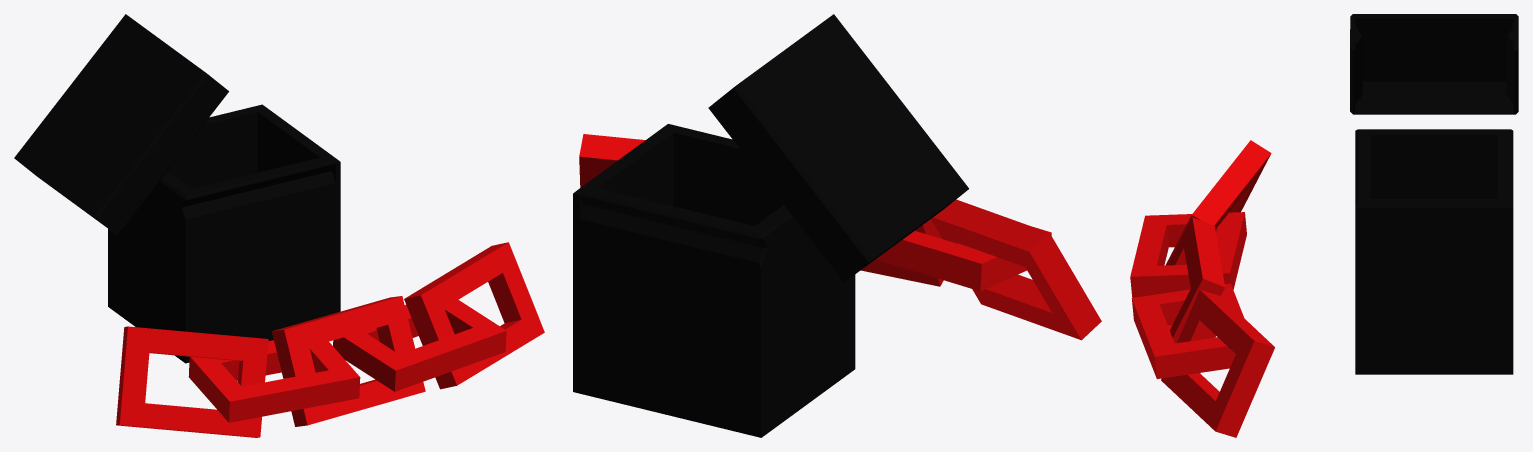
The model's file is Chain-in-box-NR.gltf.
3 renders of one model, left to right at view 1: azimuth 30°, elevation 25°; view 2: azimuth 150°, elevation 25°; view 3: azimuth 270°, elevation 25°, orthographic. The views are drawn at different scales.
Visible parts, largest first — view 1: chain-box-parte1, chain-box-parte2; view 2: chain-box-parte1, chain-box-parte2; view 3: chain-box-parte1, chain-box-parte2.
Boxes of the visible parts, <box> form: chain-box-parte1: <box>14,14,340,363</box>; chain-box-parte2: <box>116,242,544,437</box>; chain-box-parte1: <box>573,14,968,437</box>; chain-box-parte2: <box>579,134,1101,340</box>; chain-box-parte1: <box>1350,14,1518,374</box>; chain-box-parte2: <box>1130,140,1274,437</box>.
Size of the model in its own units: 0.1616 by 0.1067 by 0.1254.
